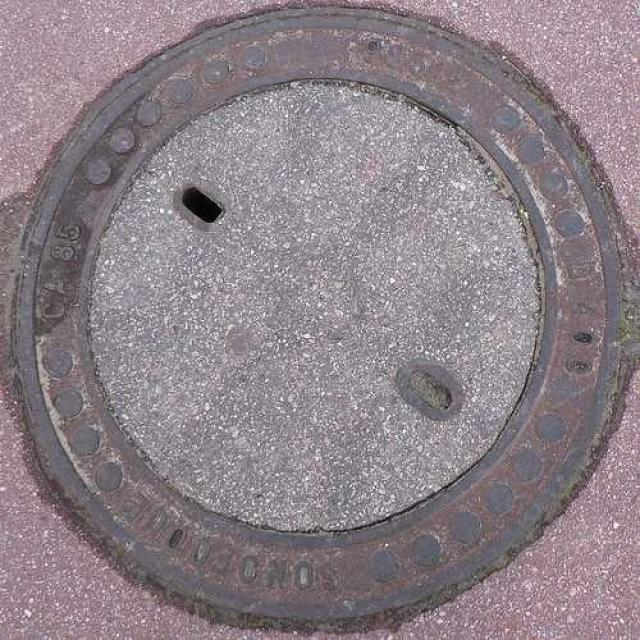manhole: (15, 9, 629, 627)
